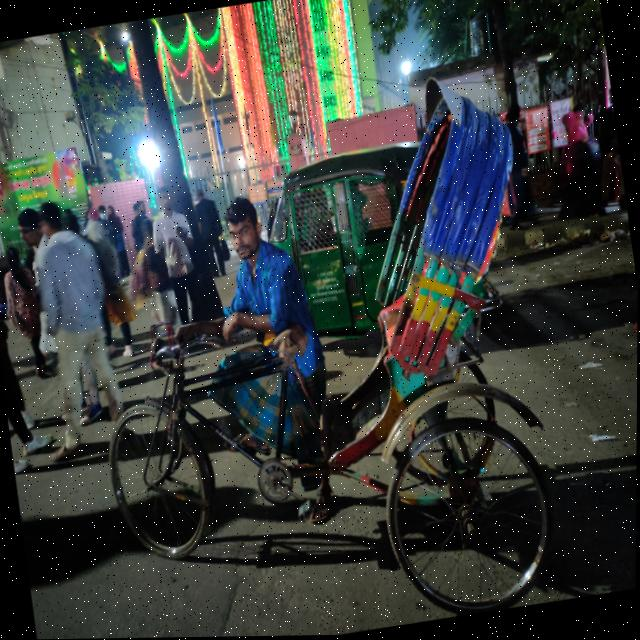rikshaw: (54, 82, 588, 639)
